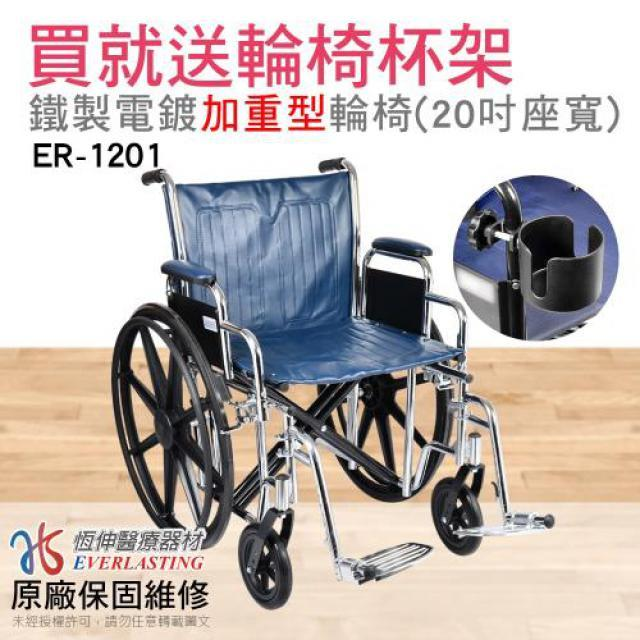wheelchair: (117, 160, 560, 593)
